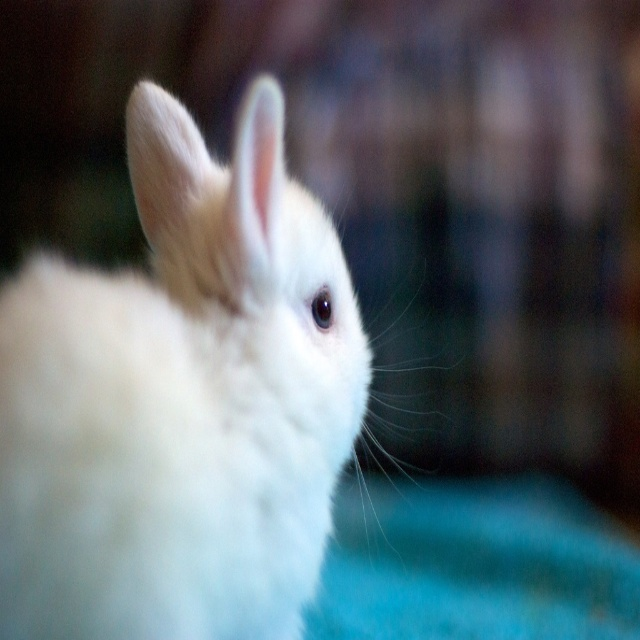Rabbit: (0, 72, 458, 639)
